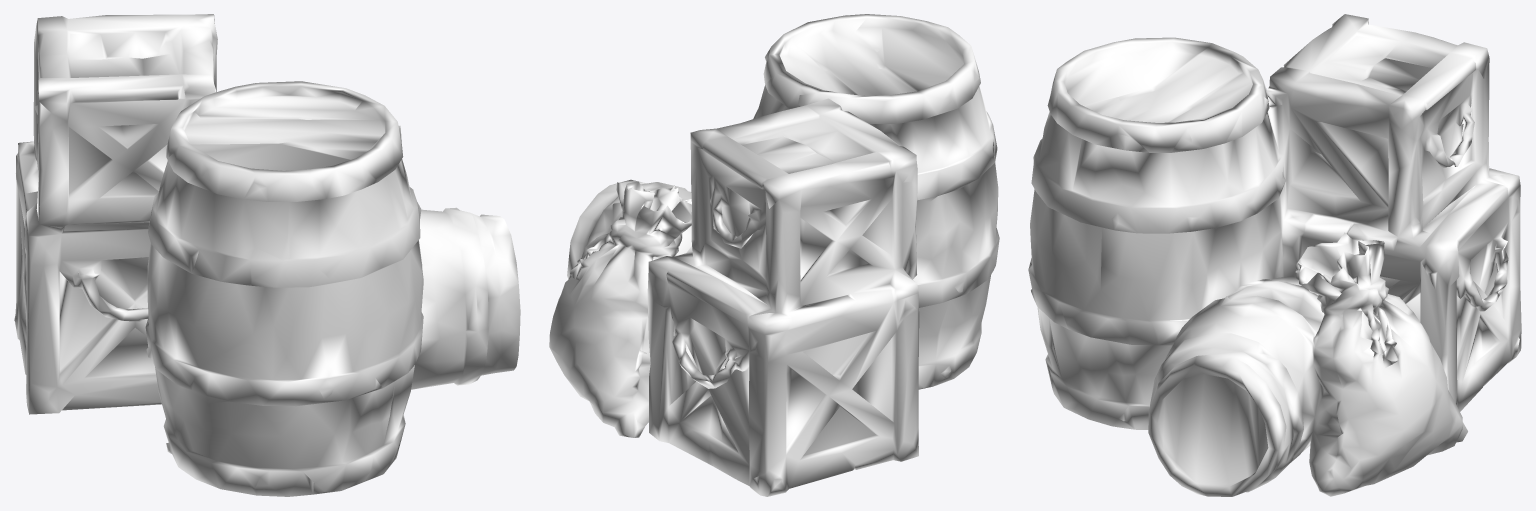
Rendered from goods.glb.
3 views of the same model, side by side, from view 1: azimuth 30°, elevation 25°; view 2: azimuth 150°, elevation 25°; view 3: azimuth 270°, elevation 25° (orthographic). The views are drawn at different scales.
Visible parts, largest first — view 1: goods; view 2: goods; view 3: goods.
Part boxes in pixels (box(x1,y1,x2,y2)): goods: box(14, 14, 520, 496); goods: box(549, 14, 999, 496); goods: box(1028, 14, 1521, 496).
Size of the model in its own units: 1.8 by 1.35 by 1.92.
Materials: 1 (1 with a texture image).
